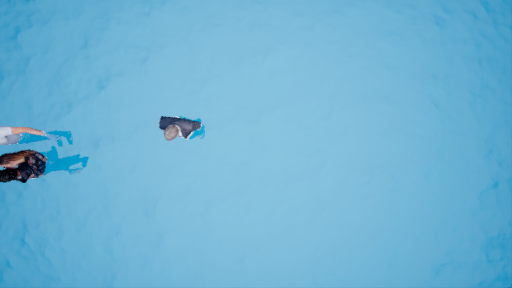person: (1, 147, 97, 193), (154, 105, 209, 148), (1, 122, 80, 150)
